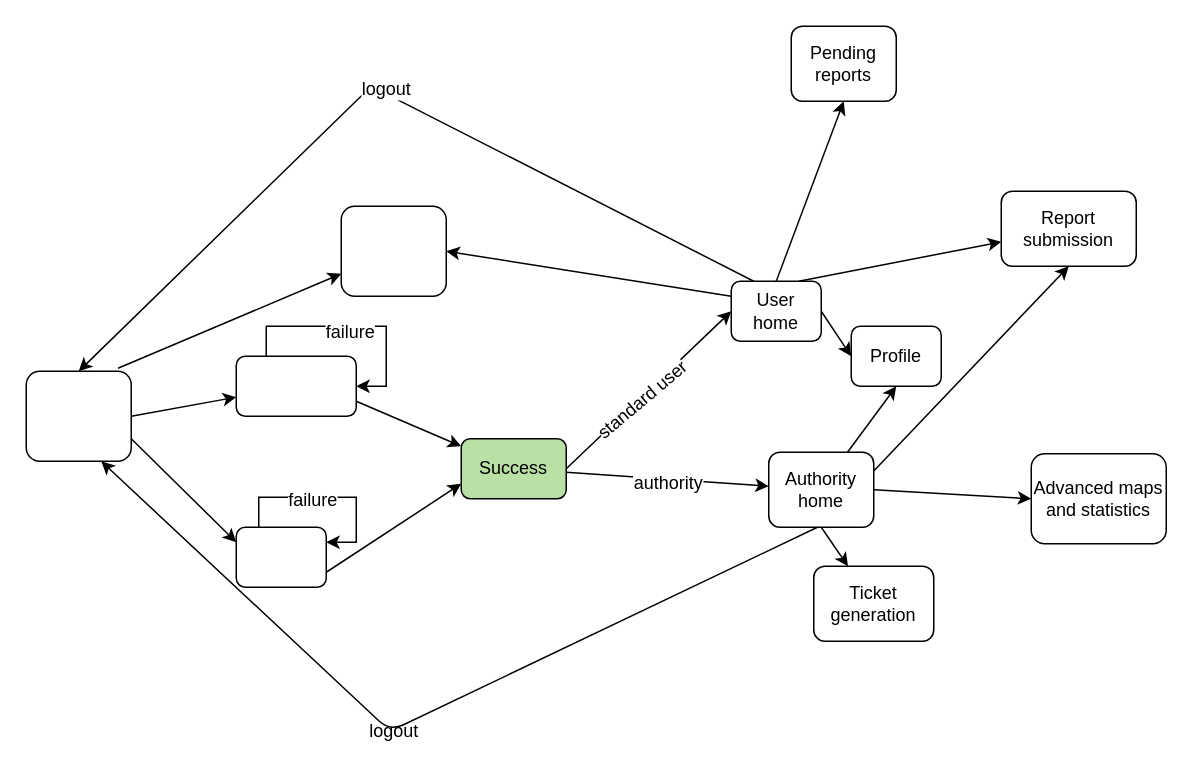
Some shapes in this 1193 by 773 pixel diagram are drawn without their labels. The shapes that lost their labels are listed below. From the top down, each one's centre as x and y in pixels, then its label:
(x=393, y=250): Maps and statistics
(x=295, y=385): Registration
(x=78, y=415): Landing page
(x=280, y=556): Login
